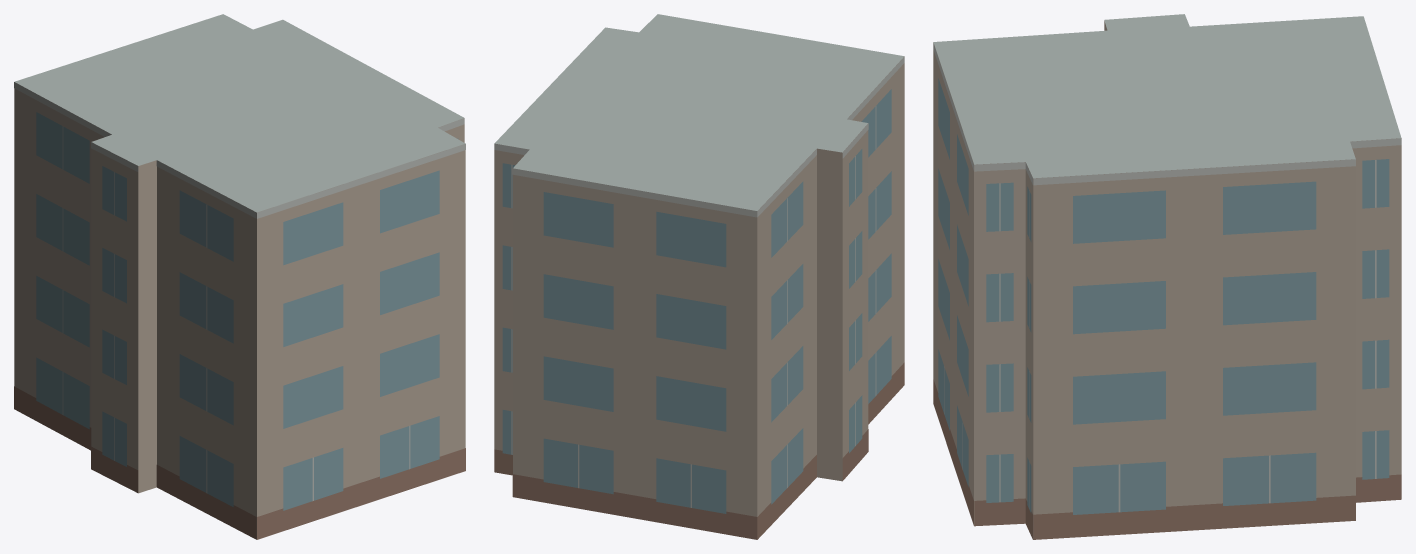
The model's file is survey-upis-32747524.glb.
3 views of the same model, side by side, from view 1: azimuth 30°, elevation 25°; view 2: azimuth 150°, elevation 25°; view 3: azimuth 270°, elevation 25° (orthographic). The views are drawn at different scales.
Visible parts, largest first — view 1: survey-upis-32747524.tmp; view 2: survey-upis-32747524.tmp; view 3: survey-upis-32747524.tmp.
Boxes of the visible parts, <box> form: survey-upis-32747524.tmp: <box>14,14,465,539</box>; survey-upis-32747524.tmp: <box>494,14,904,539</box>; survey-upis-32747524.tmp: <box>933,14,1401,539</box>.
Bounding box in the file's own units: 12.19 × 12.5 × 14.68.
